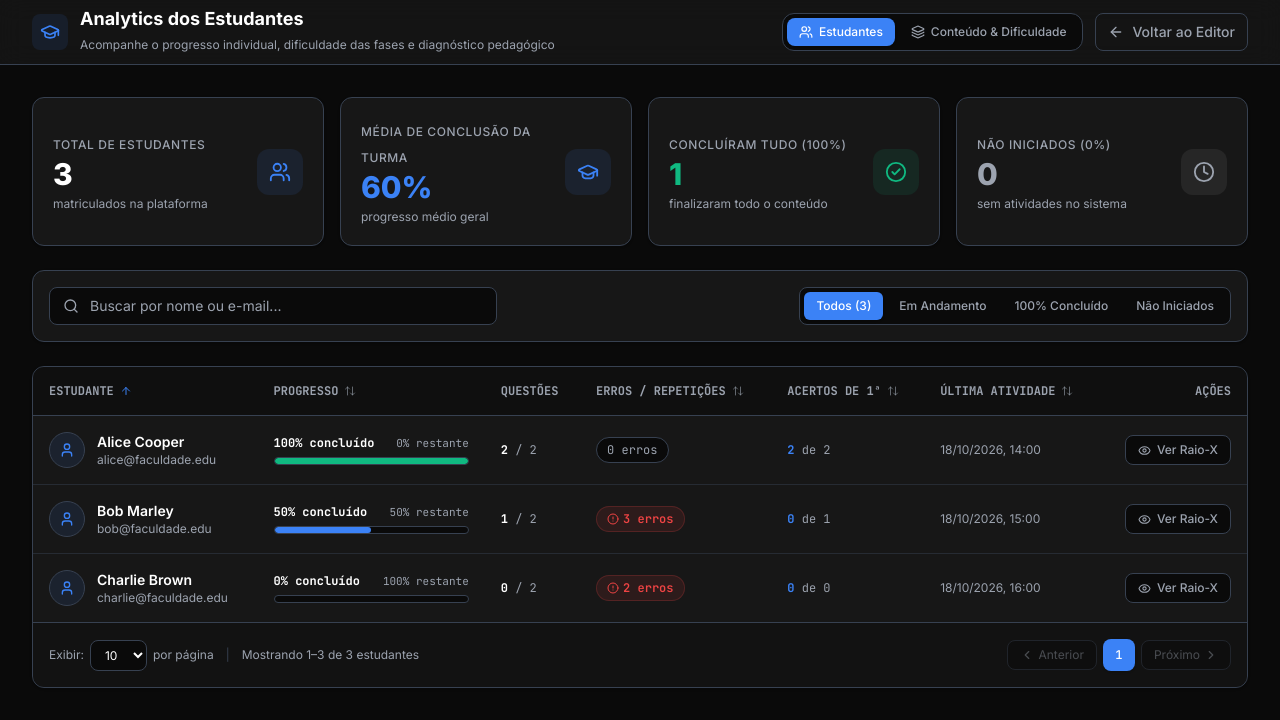
it: ContentAnalytics Integration Tests (SPEC-009 - TDD Fase Vermelha) › deve abrir o modal "Raio-X da Questão" com as respostas incorretas mais frequentes e situação dos alunos
Click the button "Conteúdo & Dificuldade" at (989, 32), box [899,18,1078,46]
(page scrolled)
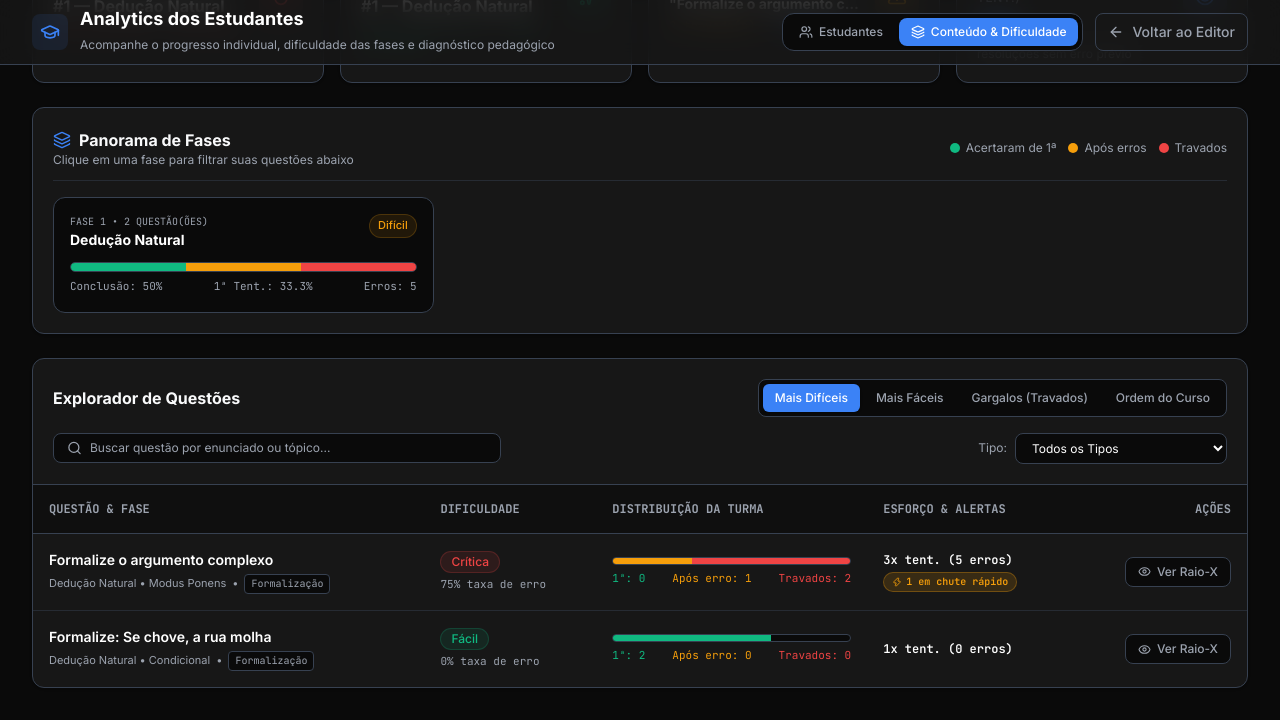
# Clicar no botão Raio-X da questão crítica
Click the button "Ver Raio-X" in the row of "Dedução Natural • Modus Ponens" at (1178, 572), box [1125,557,1231,587]
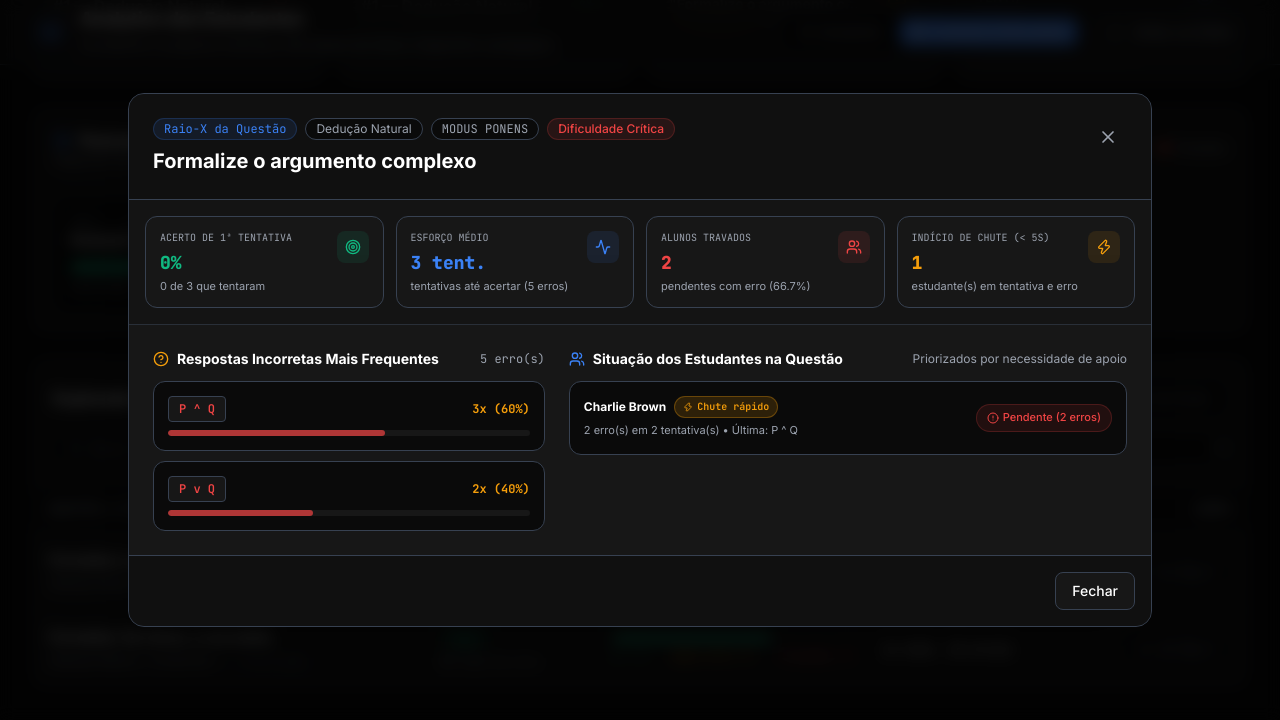
Expected: the dialog "Raio-X da Questão" is shown
Expected: the text "P ^ Q" is shown, [168,396,226,422]
Expected: the text "3x (60%)" is shown, [472,401,530,417]
